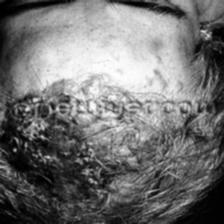Potentially Malignant Skin Tumors: (12, 121, 146, 184), (38, 76, 132, 100)
